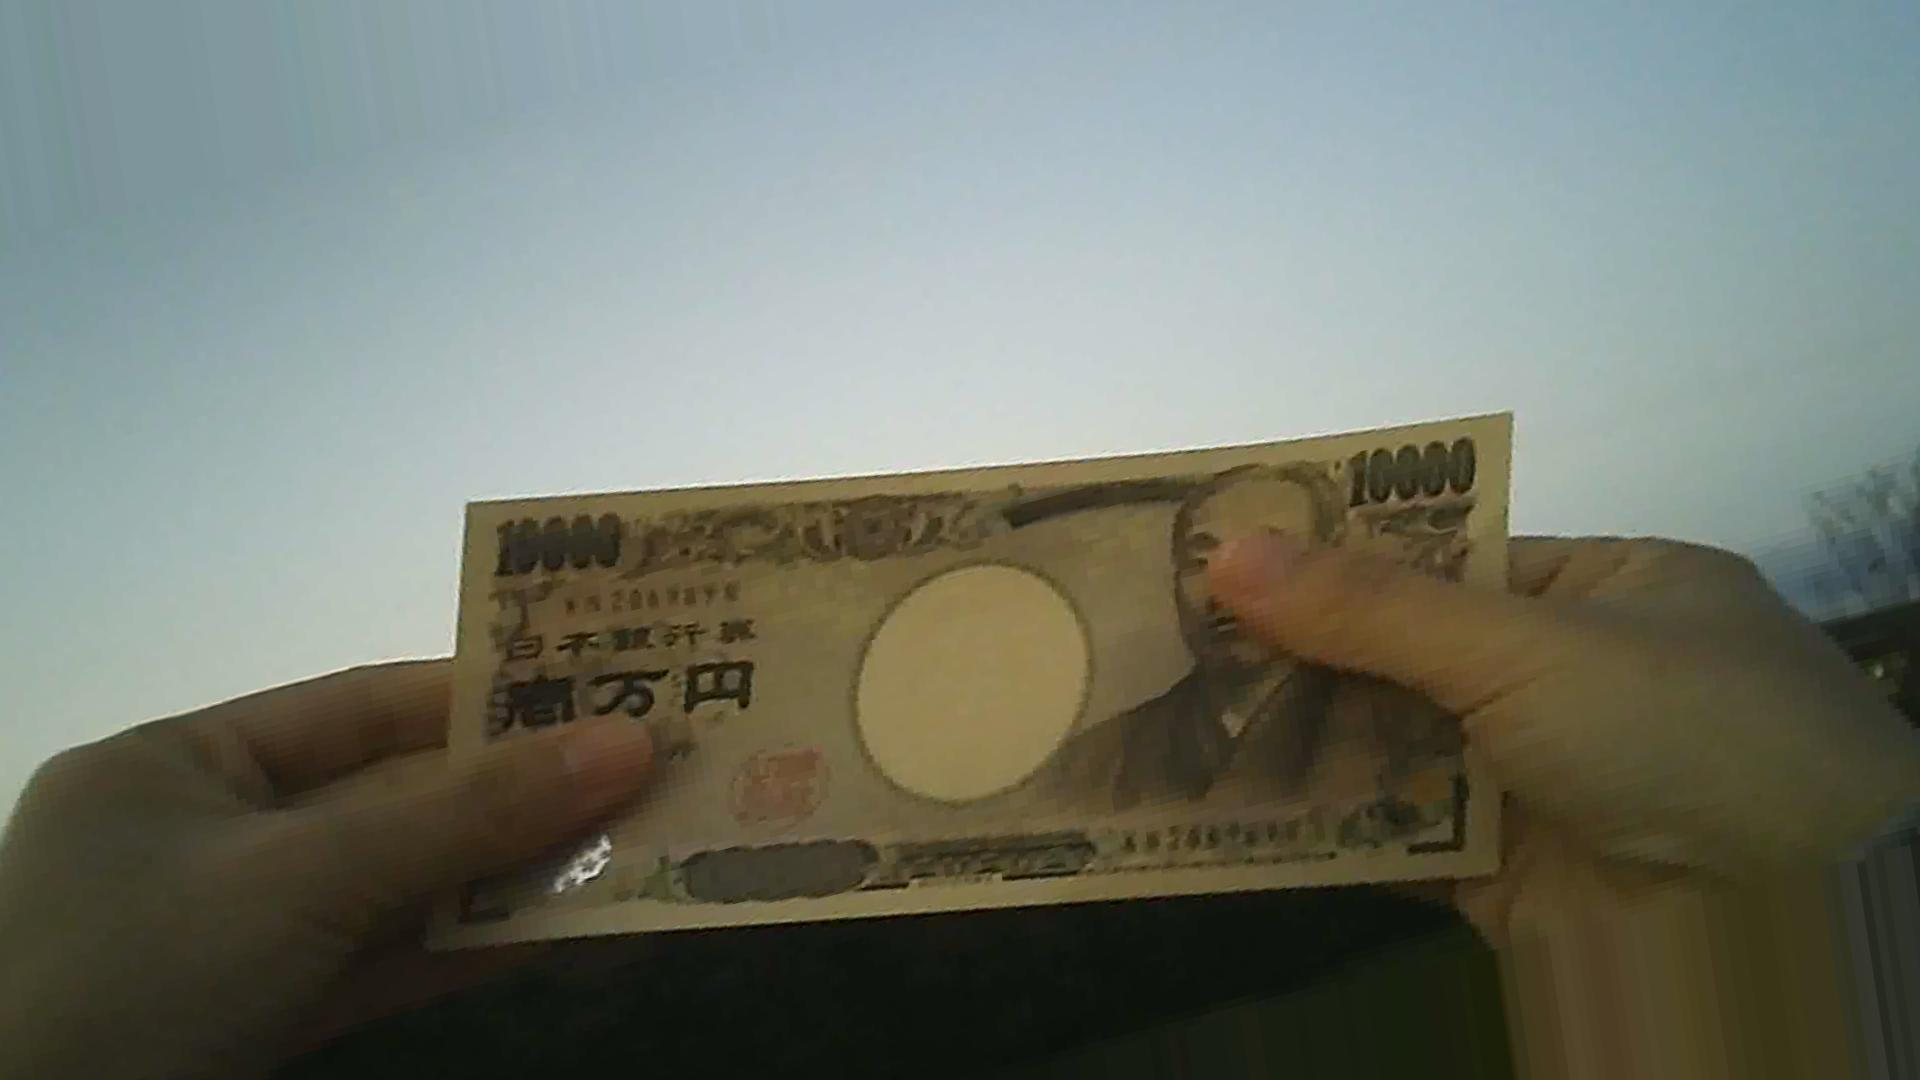10,000 Yen: (443, 407, 1528, 905)
